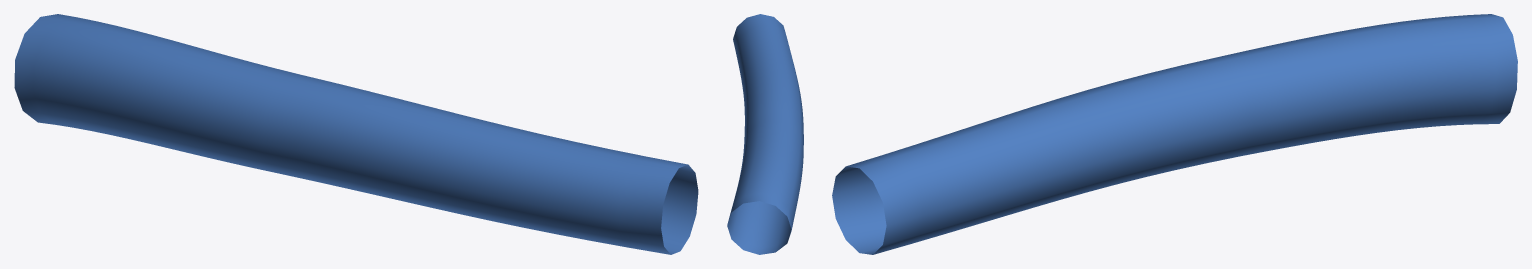
The picture shows the model from 3 angles, left to right: view 1: azimuth 30°, elevation 25°; view 2: azimuth 150°, elevation 25°; view 3: azimuth 270°, elevation 25°; orthographic projection. The views are drawn at different scales.
Parts seen in each view (by area): view 1: 左侧下颌后静脉; view 2: 左侧下颌后静脉; view 3: 左侧下颌后静脉.
Boxes of the visible parts, box(x1,y1,x2,y2) form: 左侧下颌后静脉: box(14, 14, 698, 254); 左侧下颌后静脉: box(727, 14, 803, 254); 左侧下颌后静脉: box(832, 14, 1517, 254).
Size of the model in its own units: 0.0145 by 0.00391 by 0.0218.
